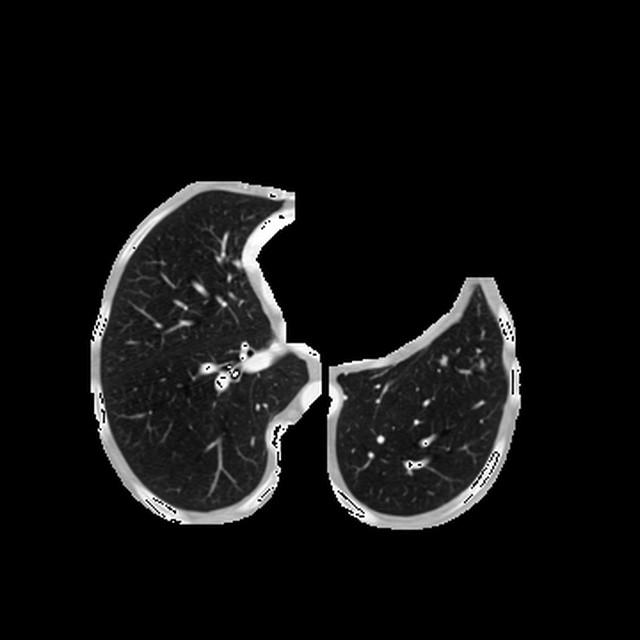PN: (436, 354, 450, 368)
